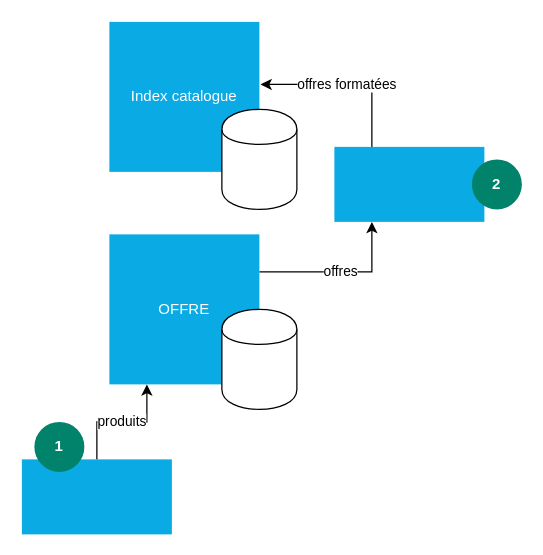
Image size: 543x555. Some labels were removed from this diagram. The centre of each missing label's shape, as x and y in pixels:
"Batch import produits" goes at point (96, 496).
"Batch indexation" goes at point (409, 183).
